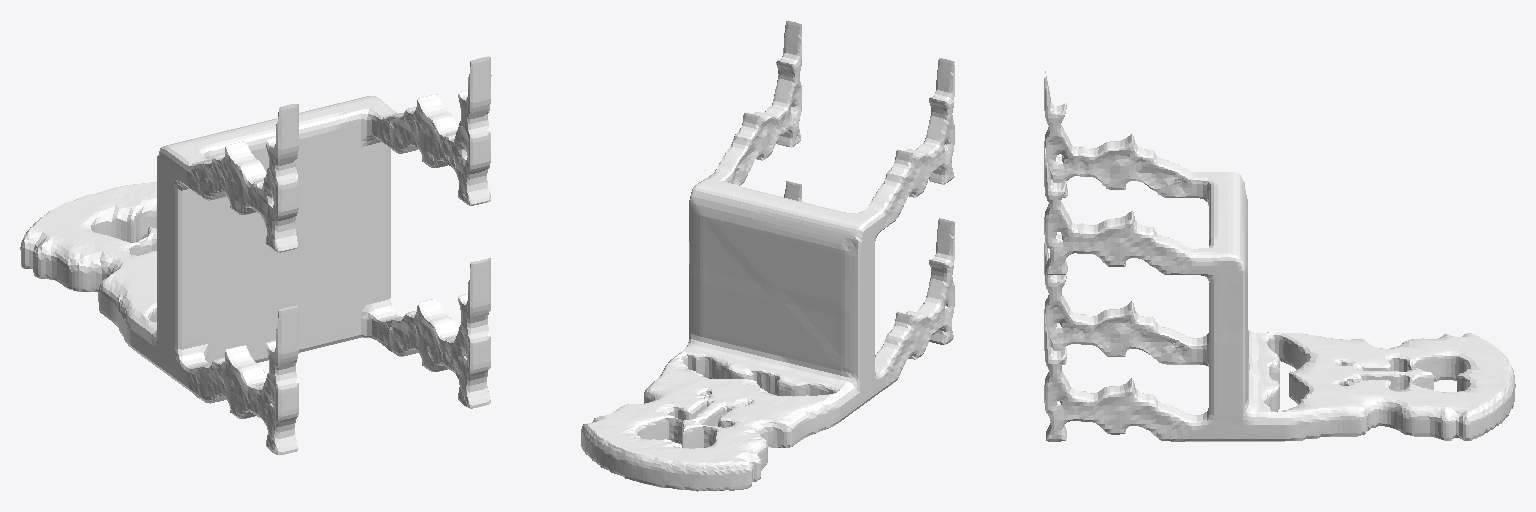
URDF robot description (chair.urdf):
<?xml version="1.0" ?>
<robot name="chair.urdf">
  <link name="baseLink">
    <inertial>
      <origin rpy="0 0 0" xyz="0 0 0"/>
       <mass value="0.0"/>
       <inertia ixx="0" ixy="0" ixz="0" iyy="0" iyz="0" izz="0"/>
    </inertial>
    <visual>
      <origin rpy="0 0 0" xyz="0 0 0"/>
      <geometry>
        <mesh filename="chair.obj" scale="0.7 0.7 0.7"/>
      </geometry>
      <material name="white">
       <color rgba="1 1 1 1"/>
     </material>
    </visual>
    <collision>
      <origin rpy="0 0 0" xyz="0 0 0"/>
      <geometry>
        <mesh filename="chair.obj" scale="0.7 0.7 0.7"/>
        <!-- You could also specify the collision (for the soccerball) with a "box" tag: -->
        <!-- <box size=".06 .06 .06"/> -->
      </geometry>
    </collision>
  </link>
</robot>
        

--- Facts derived from the render (not from the file) ---
3 views of the same robot in one strip: view 1: azimuth 30°, elevation 25°; view 2: azimuth 150°, elevation 25°; view 3: azimuth 270°, elevation 25° (orthographic).
Robot: chair.urdf — 1 links, 0 joints (none); root link baseLink; default pose: all joints at 0.
Visible links, largest first — view 1: baseLink; view 2: baseLink; view 3: baseLink.
Link boxes in pixels (x1,y1,x2,y2): baseLink: [20, 56, 491, 454]; baseLink: [581, 20, 954, 491]; baseLink: [1044, 71, 1515, 441].
Bounding box of the posed robot: 0.4557 × 1.05 × 0.7071 m (x, y, z).
Meshes: 1 distinct files referenced, 1 mesh visuals loaded (1 OBJ).